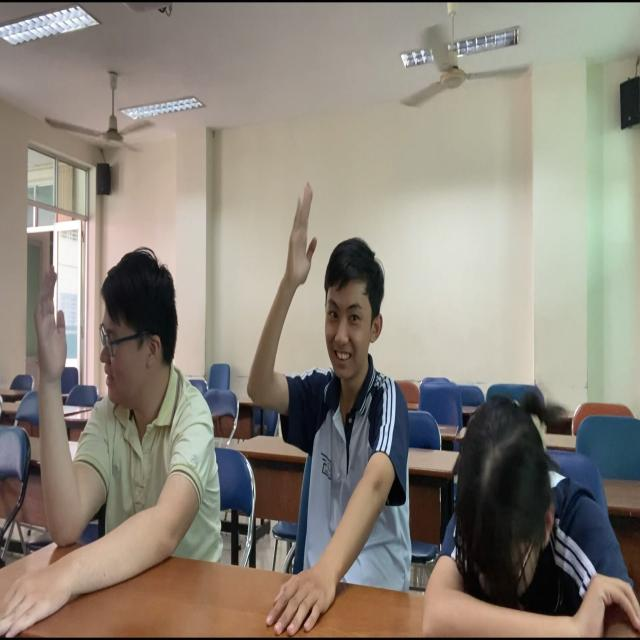raise_hand: (25, 223, 212, 610), (244, 183, 414, 602)
sleep: (427, 386, 640, 640)
